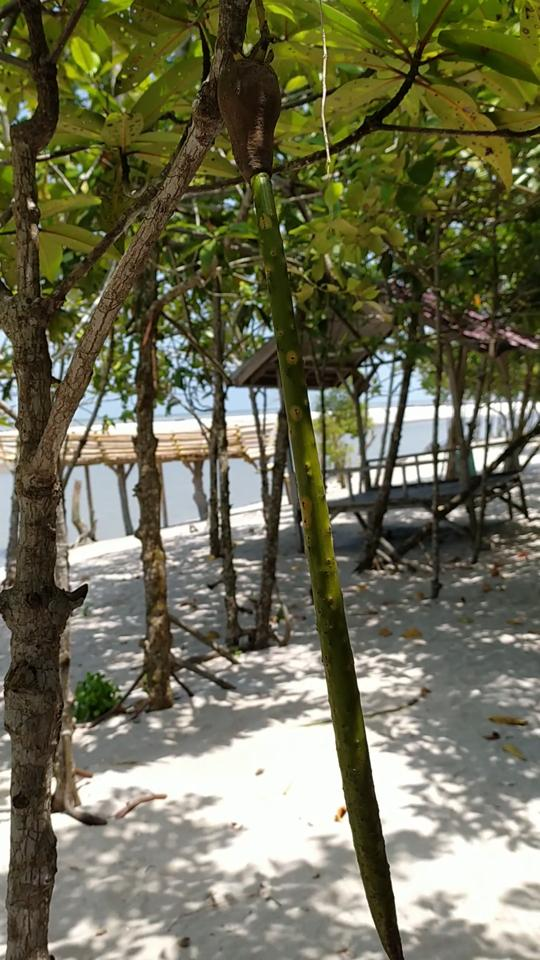setengah matang: (206, 36, 416, 955)
